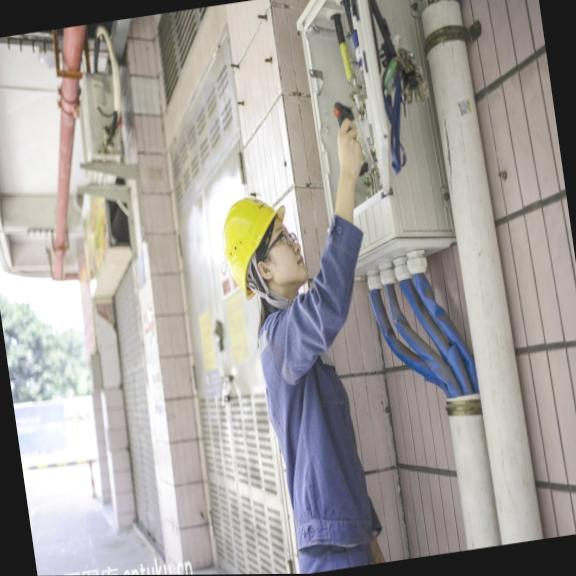no_safety_vest: (252, 300, 348, 527)
